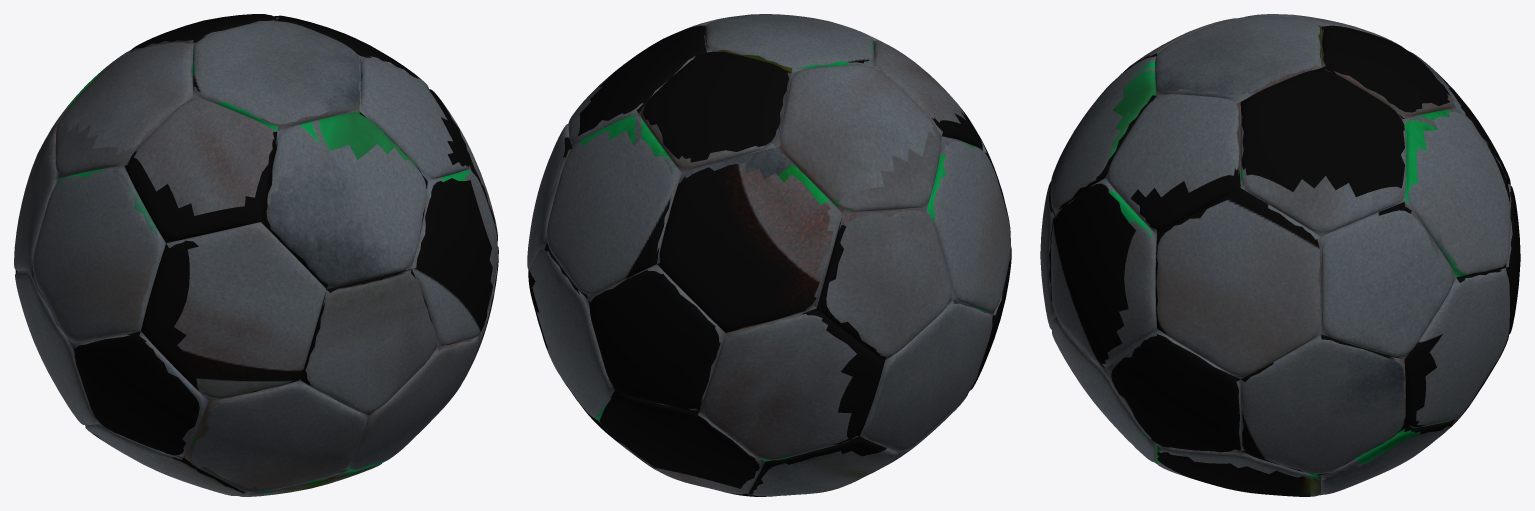
The picture shows the model from 3 angles, left to right: view 1: azimuth 30°, elevation 25°; view 2: azimuth 150°, elevation 25°; view 3: azimuth 270°, elevation 25°; orthographic projection.
Parts seen in each view (by area): view 1: Ball; view 2: Ball; view 3: Ball.
Part boxes in pixels (box(x1,y1,x2,y2)): Ball: box(14, 14, 498, 496); Ball: box(527, 14, 1011, 496); Ball: box(1040, 14, 1520, 496).
Size of the model in its own units: 3.55 by 3.53 by 3.53.
